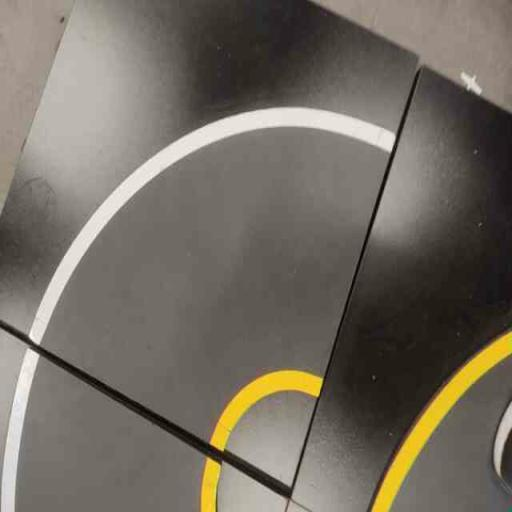left: (28, 104, 398, 487)
